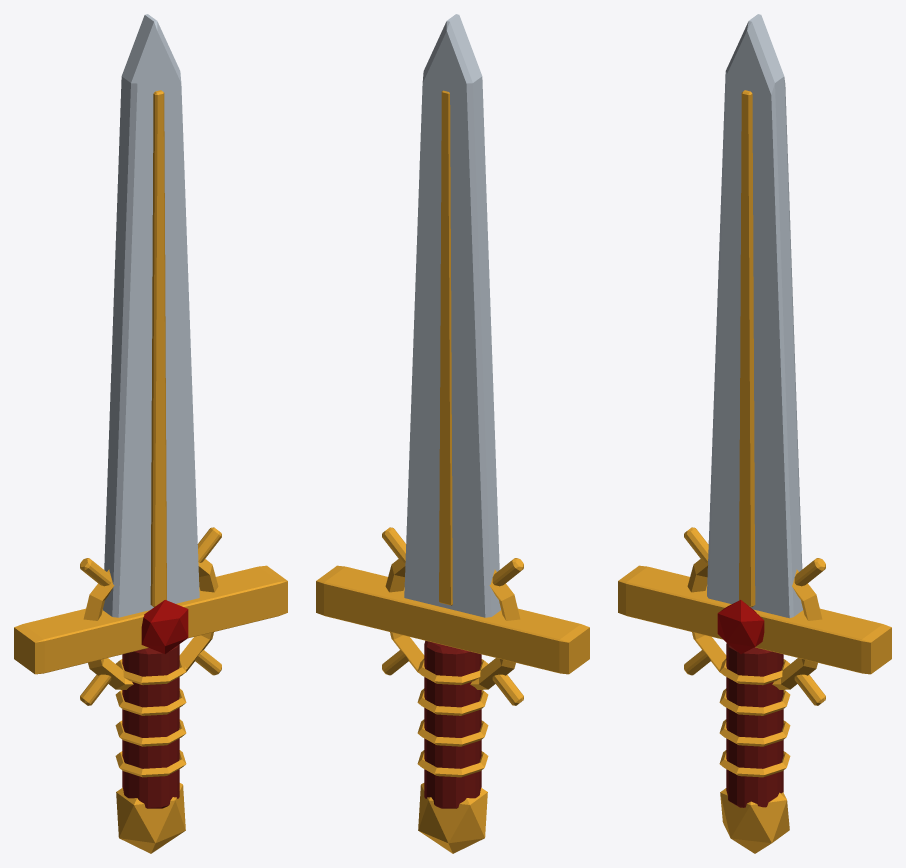
File: radiant_blade_flavio.obj
The picture shows the model from 3 angles, left to right: view 1: azimuth 30°, elevation 25°; view 2: azimuth 150°, elevation 25°; view 3: azimuth 330°, elevation 25°; orthographic projection.
Visible parts, largest first — view 1: RadiantBlade_Blade.001_MAT_WhiteHoly, RadiantBlade_Guard.001_MAT_BrightGold, RadiantBlade_Fuller.001_MAT_BrightGold, RadiantBlade_Grip.001_MAT_ClothRed, RadiantBlade_Pommel.001_MAT_BrightGold, RadiantBlade_SunRing.001_MAT_BrightGold, RadiantBlade_Gem.001_MAT_Ruby, RadiantBlade_GripBand1.001_MAT_BrightGold, RadiantBlade_GripBand2.001_MAT_BrightGold, RadiantBlade_GripBand3.001_MAT_BrightGold, RadiantBlade_GripBand0.001_MAT_BrightGold, RadiantBlade_Ray5.001_MAT_BrightGold; view 2: RadiantBlade_Blade.001_MAT_WhiteHoly, RadiantBlade_Guard.001_MAT_BrightGold, RadiantBlade_Grip.001_MAT_ClothRed, RadiantBlade_Fuller.001_MAT_BrightGold, RadiantBlade_Pommel.001_MAT_BrightGold, RadiantBlade_SunRing.001_MAT_BrightGold, RadiantBlade_GripBand1.001_MAT_BrightGold, RadiantBlade_GripBand2.001_MAT_BrightGold, RadiantBlade_GripBand3.001_MAT_BrightGold, RadiantBlade_GripBand0.001_MAT_BrightGold, RadiantBlade_Ray5.001_MAT_BrightGold; view 3: RadiantBlade_Blade.001_MAT_WhiteHoly, RadiantBlade_Guard.001_MAT_BrightGold, RadiantBlade_Fuller.001_MAT_BrightGold, RadiantBlade_Grip.001_MAT_ClothRed, RadiantBlade_Pommel.001_MAT_BrightGold, RadiantBlade_SunRing.001_MAT_BrightGold, RadiantBlade_Gem.001_MAT_Ruby, RadiantBlade_GripBand1.001_MAT_BrightGold, RadiantBlade_GripBand2.001_MAT_BrightGold, RadiantBlade_GripBand3.001_MAT_BrightGold, RadiantBlade_GripBand0.001_MAT_BrightGold, RadiantBlade_Ray7.001_MAT_BrightGold.
Boxes of the visible parts, x1,y1,x2,y2 form: RadiantBlade_Blade.001_MAT_WhiteHoly: [103, 14, 199, 617]; RadiantBlade_Guard.001_MAT_BrightGold: [14, 565, 287, 674]; RadiantBlade_Fuller.001_MAT_BrightGold: [150, 90, 166, 607]; RadiantBlade_Grip.001_MAT_ClothRed: [122, 644, 179, 808]; RadiantBlade_Pommel.001_MAT_BrightGold: [116, 783, 185, 853]; RadiantBlade_SunRing.001_MAT_BrightGold: [83, 559, 218, 689]; RadiantBlade_Gem.001_MAT_Ruby: [141, 600, 188, 653]; RadiantBlade_GripBand1.001_MAT_BrightGold: [115, 688, 186, 715]; RadiantBlade_GripBand2.001_MAT_BrightGold: [115, 719, 186, 746]; RadiantBlade_GripBand3.001_MAT_BrightGold: [115, 750, 186, 777]; RadiantBlade_GripBand0.001_MAT_BrightGold: [116, 658, 186, 685]; RadiantBlade_Ray5.001_MAT_BrightGold: [80, 674, 111, 705]; RadiantBlade_Blade.001_MAT_WhiteHoly: [404, 14, 500, 617]; RadiantBlade_Guard.001_MAT_BrightGold: [316, 565, 589, 674]; RadiantBlade_Grip.001_MAT_ClothRed: [424, 640, 481, 808]; RadiantBlade_Fuller.001_MAT_BrightGold: [439, 90, 452, 605]; RadiantBlade_Pommel.001_MAT_BrightGold: [418, 783, 487, 853]; RadiantBlade_SunRing.001_MAT_BrightGold: [385, 559, 520, 689]; RadiantBlade_GripBand1.001_MAT_BrightGold: [417, 688, 488, 715]; RadiantBlade_GripBand2.001_MAT_BrightGold: [417, 719, 488, 746]; RadiantBlade_GripBand3.001_MAT_BrightGold: [417, 750, 488, 777]; RadiantBlade_GripBand0.001_MAT_BrightGold: [417, 658, 487, 685]; RadiantBlade_Ray5.001_MAT_BrightGold: [492, 674, 523, 705]; RadiantBlade_Blade.001_MAT_WhiteHoly: [707, 14, 803, 618]; RadiantBlade_Guard.001_MAT_BrightGold: [618, 565, 891, 674]; RadiantBlade_Fuller.001_MAT_BrightGold: [739, 90, 755, 607]; RadiantBlade_Grip.001_MAT_ClothRed: [726, 643, 783, 807]; RadiantBlade_Pommel.001_MAT_BrightGold: [720, 788, 789, 853]; RadiantBlade_SunRing.001_MAT_BrightGold: [687, 559, 822, 689]; RadiantBlade_Gem.001_MAT_Ruby: [717, 600, 764, 653]; RadiantBlade_GripBand1.001_MAT_BrightGold: [719, 688, 790, 715]; RadiantBlade_GripBand2.001_MAT_BrightGold: [719, 719, 790, 746]; RadiantBlade_GripBand3.001_MAT_BrightGold: [719, 750, 790, 777]; RadiantBlade_GripBand0.001_MAT_BrightGold: [719, 658, 789, 685]; RadiantBlade_Ray7.001_MAT_BrightGold: [794, 674, 825, 705].
Size of the model in its own units: 1.55 by 4.9 by 0.4216.
